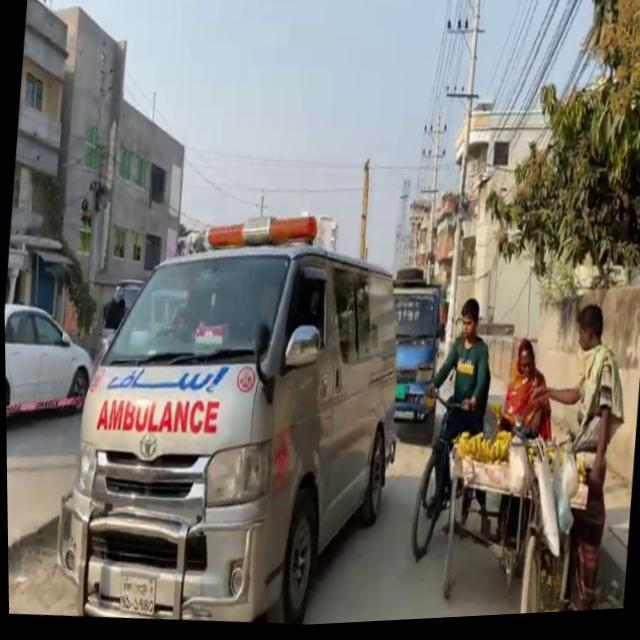Broken-road: (54, 209, 409, 638)
Construction-barrier: (5, 444, 78, 567), (587, 510, 628, 616), (6, 506, 59, 565), (5, 444, 77, 479), (602, 521, 627, 562)
Garbage: (429, 424, 583, 623)
Garbage-bin: (517, 303, 634, 619), (410, 297, 498, 525)
Traffic-cone: (403, 387, 479, 568), (378, 267, 446, 431)
